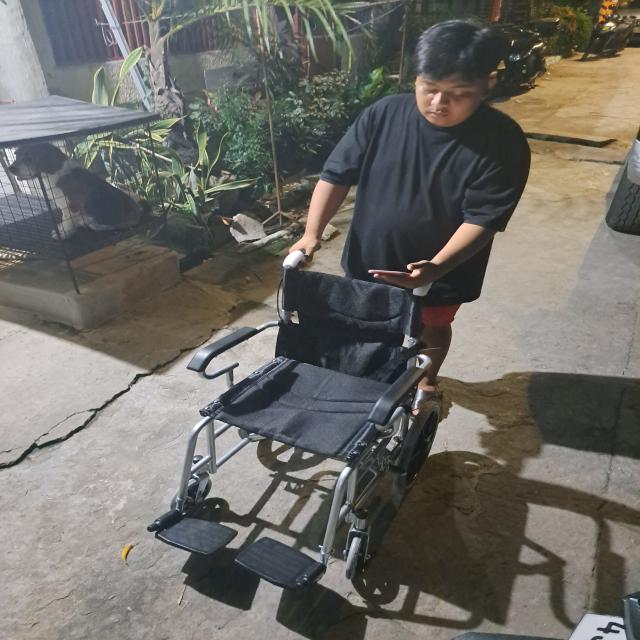wheelchairs: (151, 232, 447, 600)
